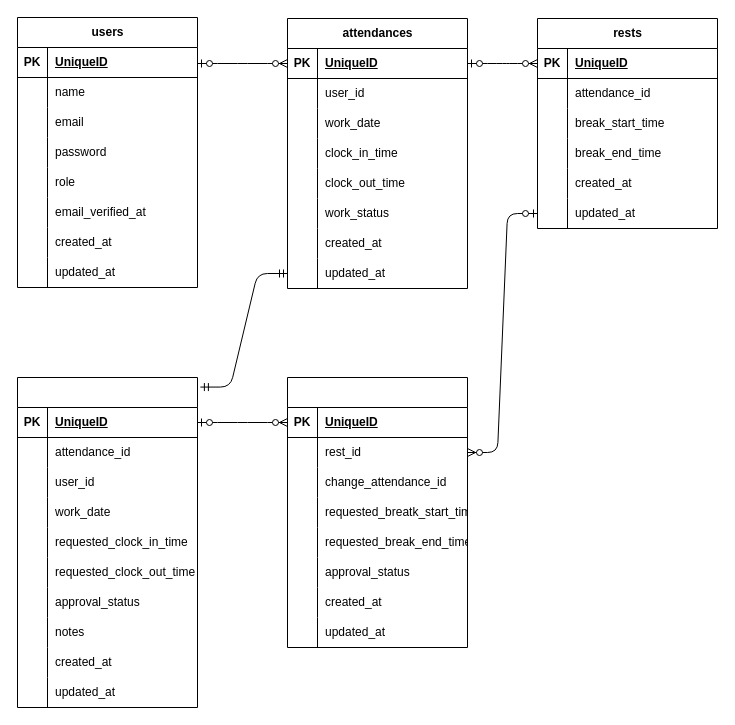
This 735x725 diagram has some shape labels left out. Here are the shapes that lost their labels. From the top down, the box of each, then its label:
(286, 376, 468, 648): change_rests
(16, 376, 198, 708): change_attendances
